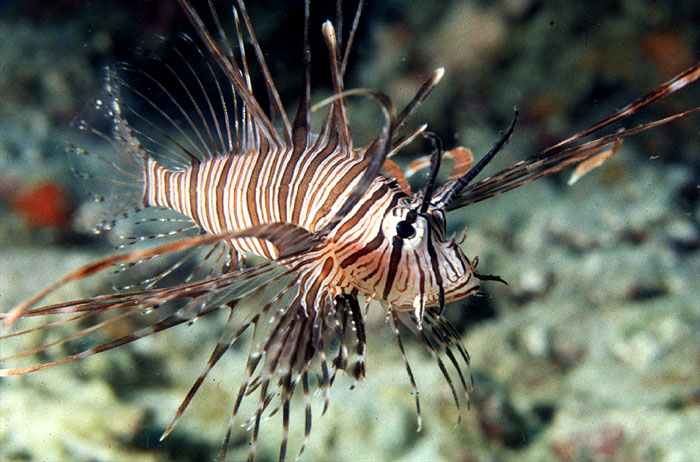Pterois_volitans: (87, 55, 521, 422)
